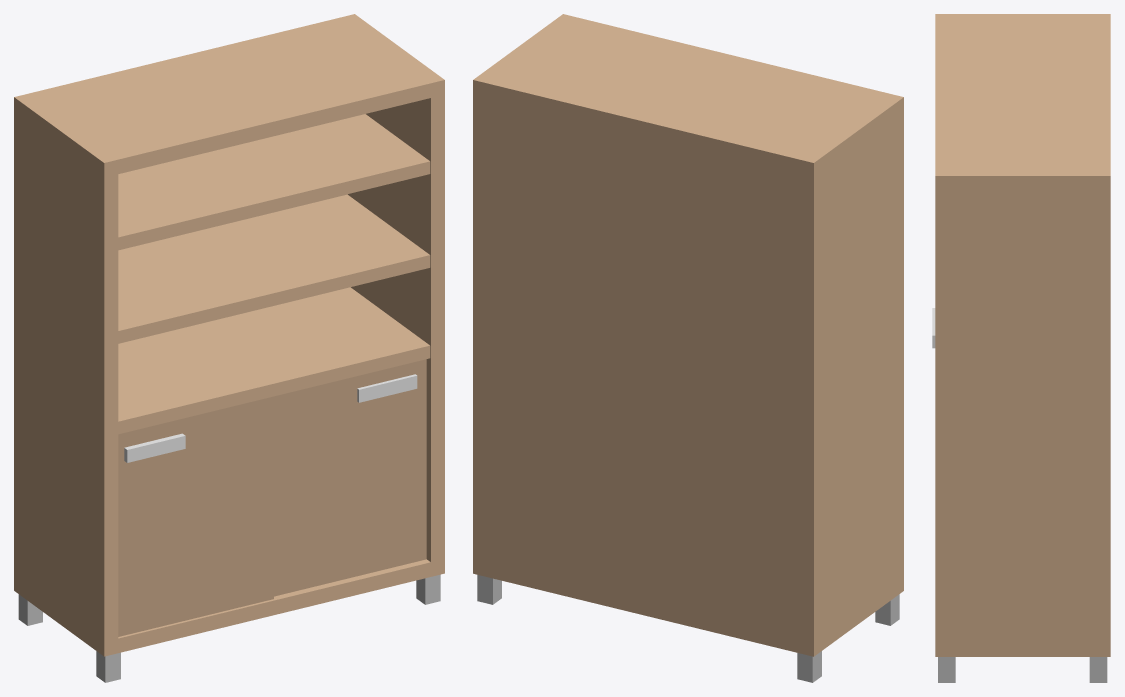
The model's file is wardrobe.fbx.
The picture shows the model from 3 angles, left to right: view 1: azimuth 30°, elevation 25°; view 2: azimuth 150°, elevation 25°; view 3: azimuth 270°, elevation 25°; orthographic projection. The views are drawn at different scales.
Visible parts, largest first — view 1: Cube_13; view 2: Cube_13; view 3: Cube_13.
Part boxes in pixels (x1,y1,x2,y2): Cube_13: (14,14,444,682); Cube_13: (473,14,903,682); Cube_13: (932,14,1110,682).
Size of the model in its own units: 51.07 by 74.73 by 23.79.
